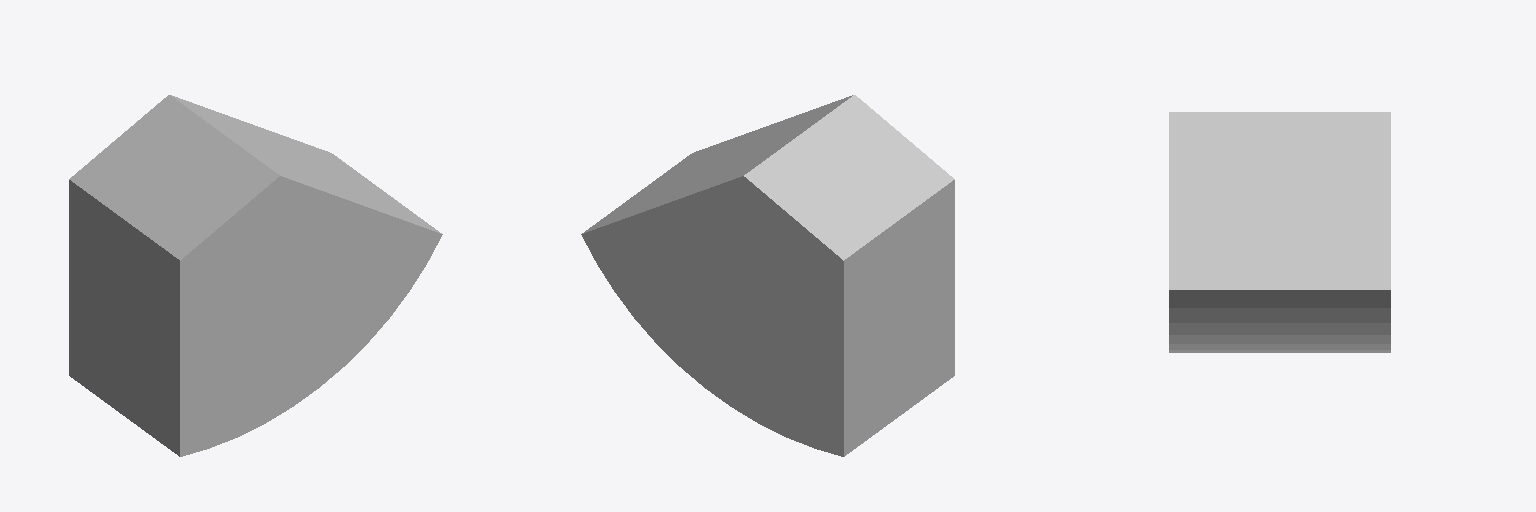
Rendered from round_hexagon_hole_2.obj.
3 renders of one model, left to right at view 1: azimuth 30°, elevation 25°; view 2: azimuth 150°, elevation 25°; view 3: azimuth 270°, elevation 25°, orthographic.
Visible parts, largest first — view 1: Body125; view 2: Body125; view 3: Body125.
Boxes of the visible parts, x1,y1,x2,y2 form: Body125: [69, 95, 442, 456]; Body125: [581, 95, 954, 456]; Body125: [1169, 112, 1390, 352].
Size of the model in its own units: 0.0546 by 0.051 by 0.04.